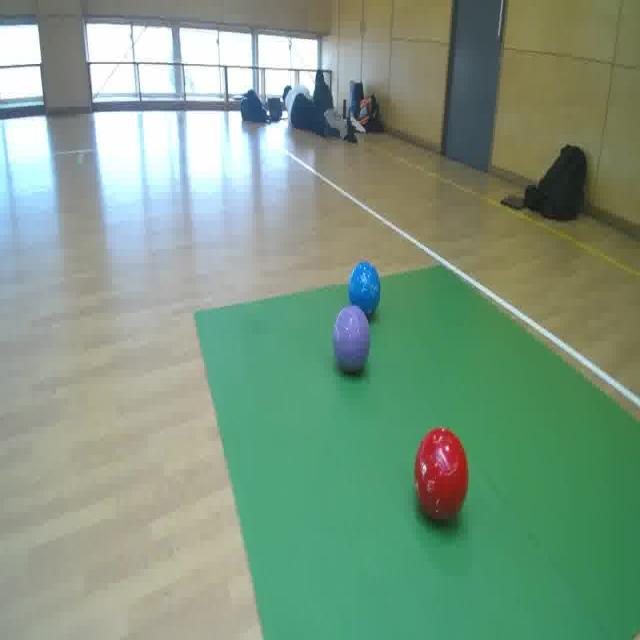blue_ball: (349, 261, 381, 315)
purple_ball: (333, 305, 371, 371)
red_ball: (415, 428, 470, 526)
